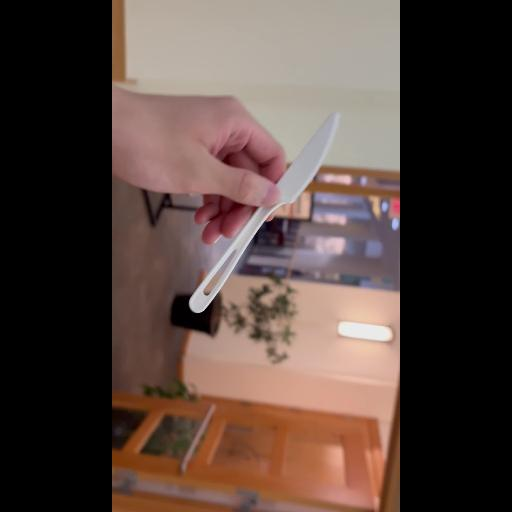utensil: (185, 96, 345, 326)
